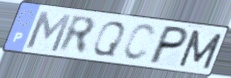C: (121, 22, 157, 63)
M: (24, 9, 74, 54), (176, 29, 225, 71)
P: (146, 24, 192, 66)
Q: (90, 20, 127, 58)
R: (57, 13, 98, 56)
